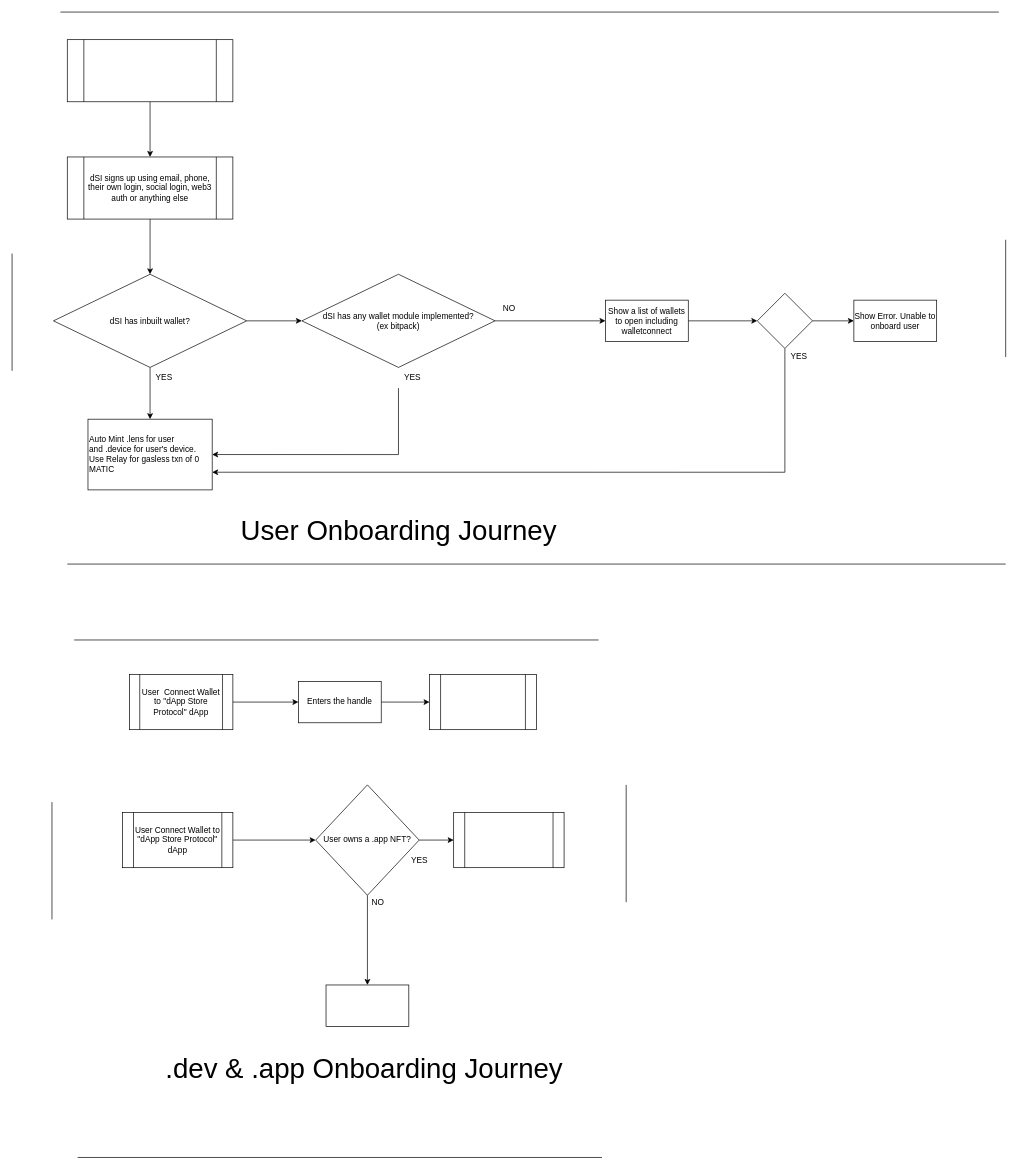
Some shapes in this 1018 by 1170 pixel diagram are drawn without their labels. Here are the shapes that lost their labels. From the top down, the box of each, then its label:
(67, 39, 233, 102): User Intents to Sign Up for a dApp Store Implementation (dSI)
(757, 293, 812, 348): Link to wallet?
(429, 674, 536, 730): Mint .app
(453, 812, 564, 868): Mint .dev
(325, 984, 409, 1026): Show Error & Stop
